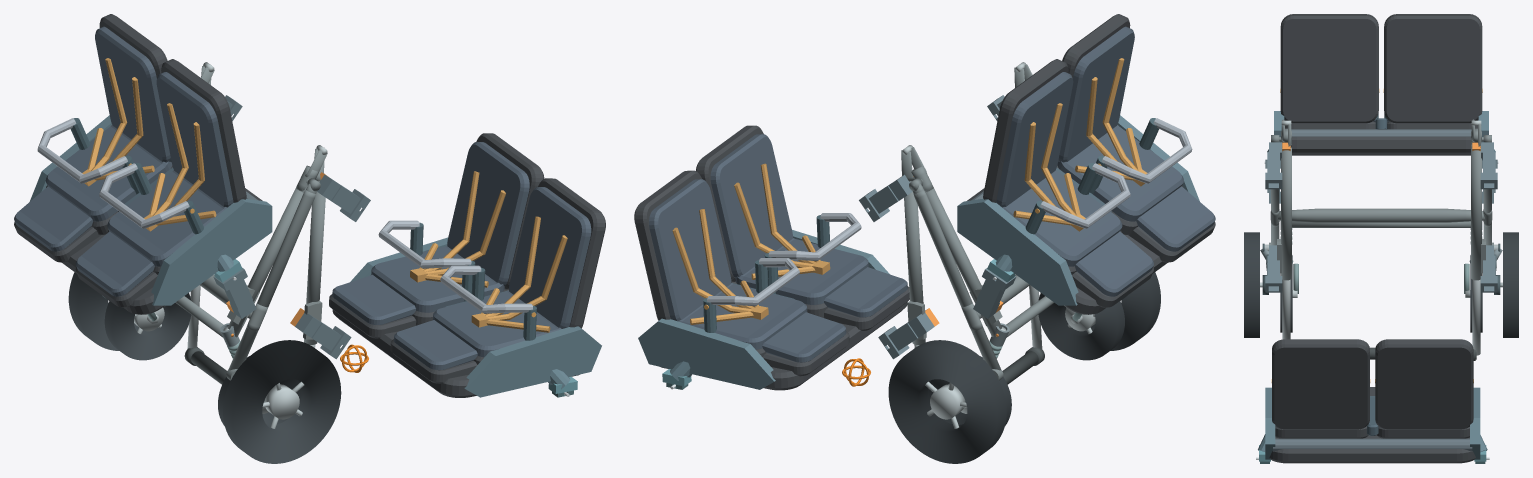
Rendered from D26_w650_state3_wheel_M.glb.
3 views of the same model, side by side, from view 1: azimuth 30°, elevation 25°; view 2: azimuth 150°, elevation 25°; view 3: azimuth 270°, elevation 25° (orthographic). The views are drawn at different scales.
Parts seen in each view (by area): view 1: D26_Upper, D26_Lower, RL_tire.011, FR_tire.011, V46_rear_leg_-1.011, RR_tire.011, main_lower_-1.012, main_upper_-1.012, Universal_Cabin_Receiver_H_-1, Universal_Cabin_Receiver_M_-1, Universal_Cabin_Receiver_L_-1, RL_sealed_hub.011 (+3 smaller); view 2: D26_Upper, D26_Lower, RR_tire.011, FL_tire.011, V46_rear_leg_1.011, RL_tire.011, main_lower_1.012, main_upper_1.012, Universal_Cabin_Receiver_H_1, Universal_Cabin_Receiver_M_1, Universal_Cabin_Receiver_L_1, RR_sealed_hub.011 (+4 smaller); view 3: D26_Lower, D26_Upper, V46_rearbar.011, RL_tire.011, RR_tire.011, main_upper_1.012, main_upper_-1.012, front_fixed_round_tube.011, Universal_Cabin_Receiver_M_1, Universal_Cabin_Receiver_M_-1, handle_slider_1.013, Universal_Cabin_Receiver_H_1 (+7 smaller).
Part boxes in pixels (bbox=[...]): D26_Upper: bbox=[329, 133, 605, 397]; D26_Lower: bbox=[14, 14, 272, 314]; RL_tire.011: bbox=[223, 340, 341, 463]; FR_tire.011: bbox=[104, 293, 191, 360]; V46_rear_leg_-1.011: bbox=[228, 190, 315, 370]; RR_tire.011: bbox=[68, 272, 144, 350]; main_lower_-1.012: bbox=[227, 186, 307, 337]; main_upper_-1.012: bbox=[304, 181, 325, 344]; Universal_Cabin_Receiver_H_-1: bbox=[295, 313, 351, 359]; Universal_Cabin_Receiver_M_-1: bbox=[317, 174, 370, 221]; Universal_Cabin_Receiver_L_-1: bbox=[213, 268, 256, 318]; RL_sealed_hub.011: bbox=[264, 384, 299, 419]; D26_Upper: bbox=[634, 125, 909, 390]; D26_Lower: bbox=[957, 14, 1215, 314]; RR_tire.011: bbox=[888, 340, 1006, 463]; FL_tire.011: bbox=[1038, 293, 1124, 360]; V46_rear_leg_1.011: bbox=[913, 190, 1000, 370]; RL_tire.011: bbox=[1085, 272, 1160, 350]; main_lower_1.012: bbox=[924, 188, 1001, 337]; main_upper_1.012: bbox=[904, 181, 925, 344]; Universal_Cabin_Receiver_H_1: bbox=[878, 313, 934, 359]; Universal_Cabin_Receiver_M_1: bbox=[859, 174, 912, 221]; Universal_Cabin_Receiver_L_1: bbox=[973, 267, 1015, 318]; RR_sealed_hub.011: bbox=[930, 384, 965, 419]; D26_Lower: bbox=[1274, 14, 1488, 155]; D26_Upper: bbox=[1265, 339, 1480, 463]; V46_rearbar.011: bbox=[1277, 208, 1485, 222]; RL_tire.011: bbox=[1244, 232, 1259, 337]; RR_tire.011: bbox=[1503, 232, 1518, 337]; main_upper_1.012: bbox=[1471, 147, 1481, 280]; main_upper_-1.012: bbox=[1281, 147, 1291, 280]; front_fixed_round_tube.011: bbox=[1292, 221, 1470, 227]; Universal_Cabin_Receiver_M_1: bbox=[1480, 142, 1497, 189]; Universal_Cabin_Receiver_M_-1: bbox=[1265, 142, 1282, 189]; handle_slider_1.013: bbox=[1472, 279, 1480, 355]; Universal_Cabin_Receiver_H_1: bbox=[1480, 245, 1497, 292].
Size of the model in its own units: 1.33 by 0.9843 by 0.781.
